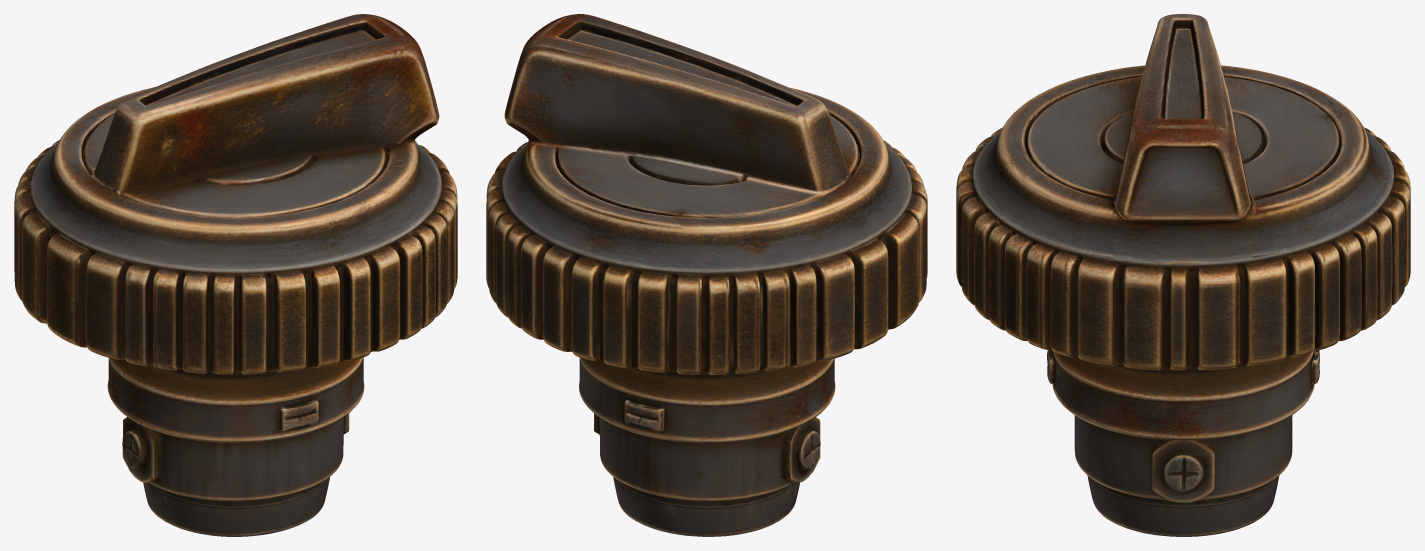
File: adjuster.glb
The picture shows the model from 3 angles, left to right: view 1: azimuth 30°, elevation 25°; view 2: azimuth 150°, elevation 25°; view 3: azimuth 270°, elevation 25°; orthographic projection. The views are drawn at different scales.
Visible parts, largest first — view 1: Mesh_0; view 2: Mesh_0; view 3: Mesh_0.
Part boxes in pixels (x1,y1,x2,y2): Mesh_0: [14, 14, 457, 536]; Mesh_0: [486, 14, 927, 536]; Mesh_0: [956, 14, 1410, 536].
Size of the model in its own units: 0.8709 by 0.9565 by 0.8693.
Materials: 1 (1 with a texture image).
